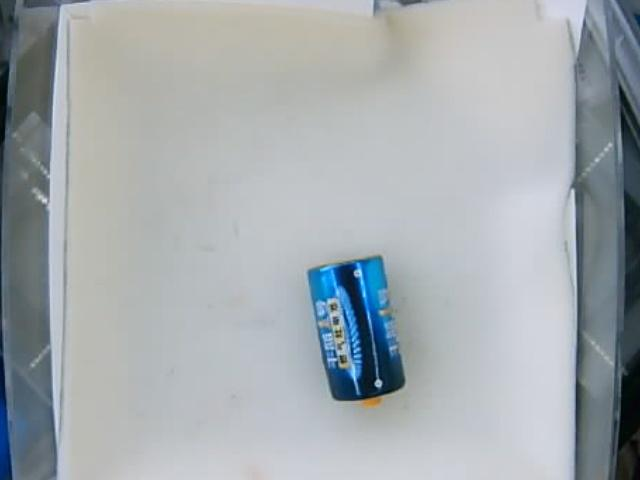Battery: (307, 253, 407, 410)
